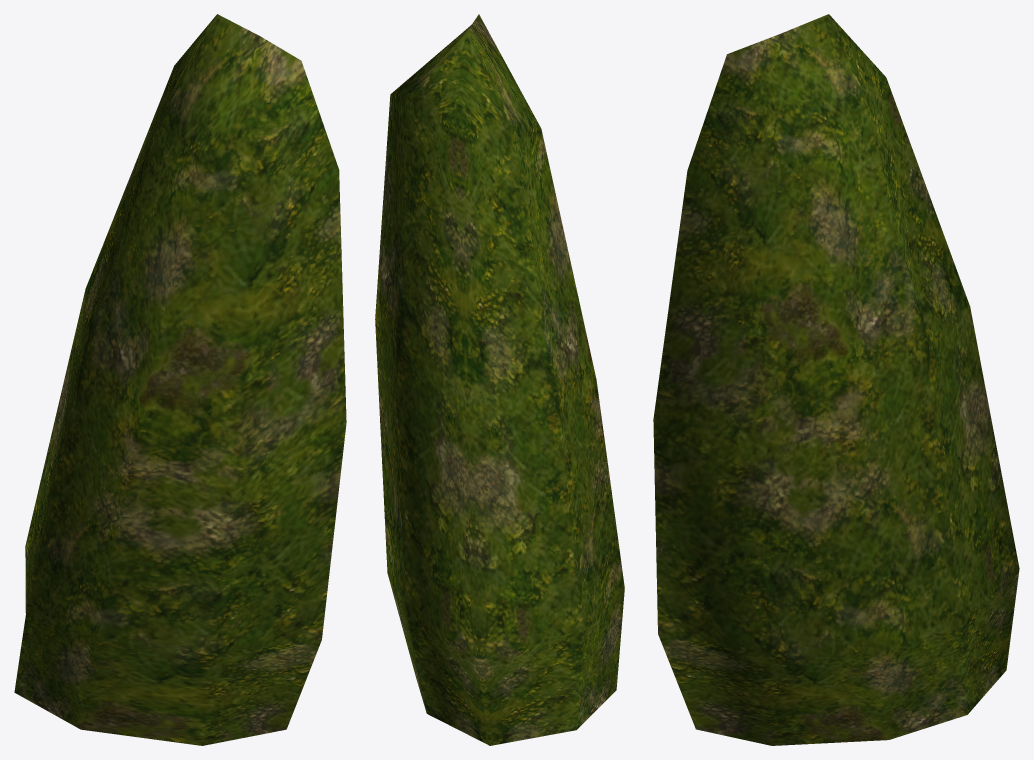
The model's file is OVERHILL_A_01_BOX12.fbx.
3 renders of one model, left to right at view 1: azimuth 30°, elevation 25°; view 2: azimuth 150°, elevation 25°; view 3: azimuth 270°, elevation 25°, orthographic. The views are drawn at different scales.
Visible parts, largest first — view 1: OVERHILL_A_01_BOX12; view 2: OVERHILL_A_01_BOX12; view 3: OVERHILL_A_01_BOX12.
Boxes of the visible parts, x1=… form: OVERHILL_A_01_BOX12: x1=14, y1=14, x2=346, y2=745; OVERHILL_A_01_BOX12: x1=375, y1=14, x2=624, y2=745; OVERHILL_A_01_BOX12: x1=653, y1=14, x2=1019, y2=745.
Bounding box in the file's own units: 23430 × 61755 × 28779.
1 material, 1 textured.
